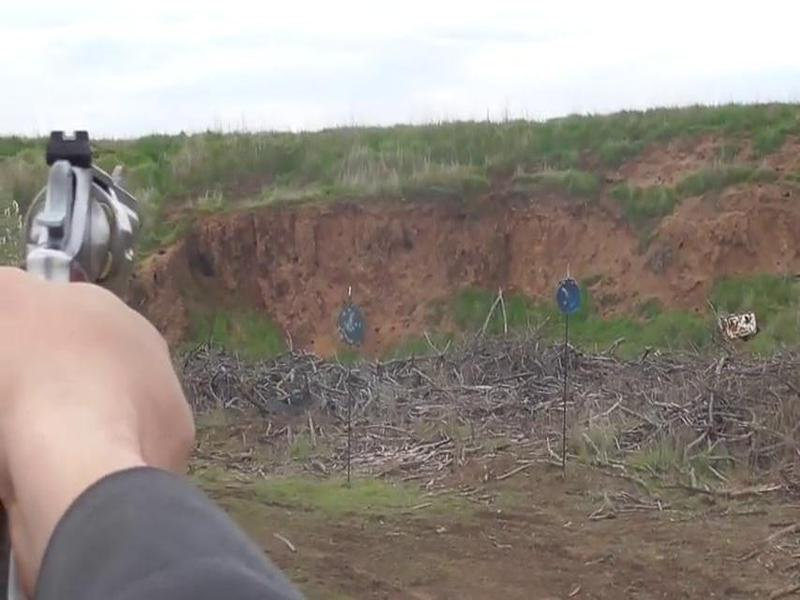Revolver: (22, 117, 149, 310)
